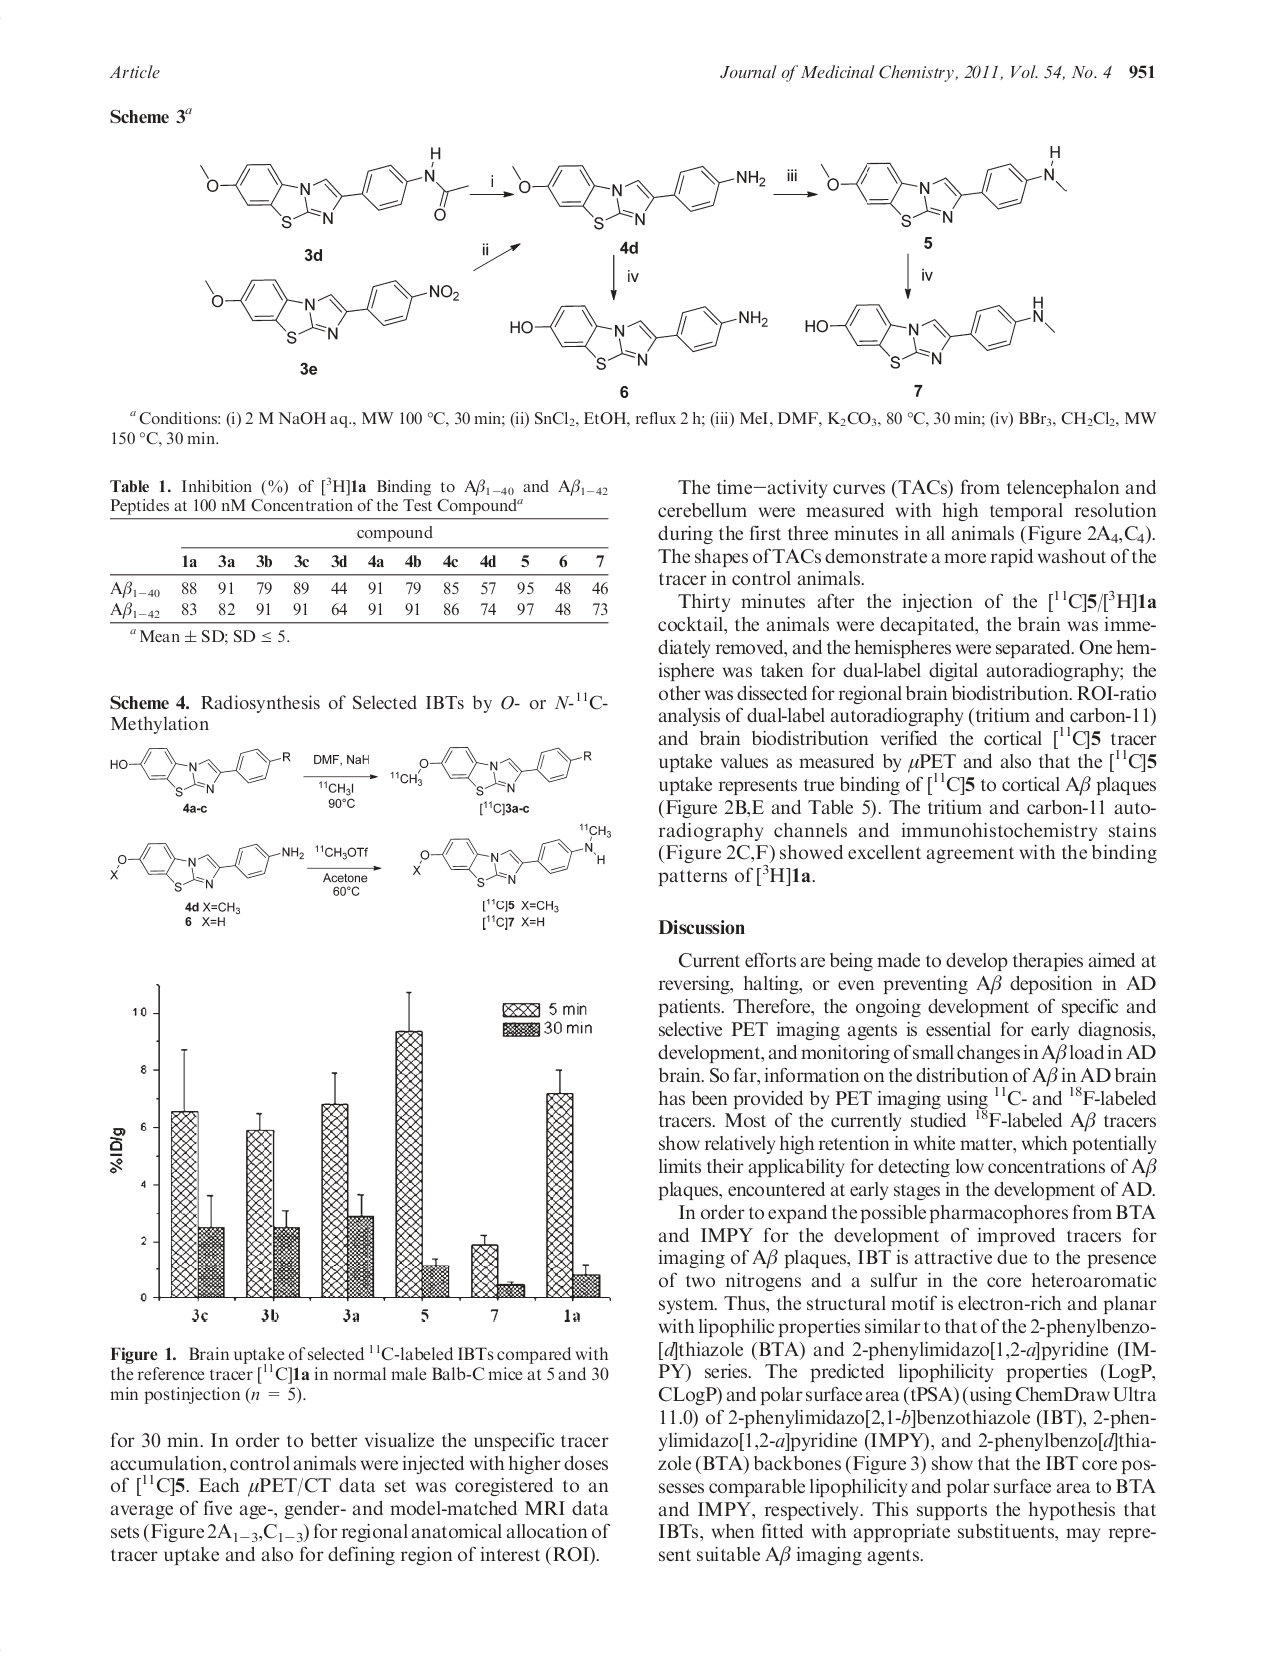exist_molecular: (197, 144, 472, 230), (817, 141, 1073, 229), (507, 156, 769, 231), (508, 299, 777, 372), (801, 295, 1061, 370), (195, 274, 460, 347), (410, 821, 614, 888), (390, 739, 594, 798), (102, 834, 307, 892), (108, 743, 294, 801)
